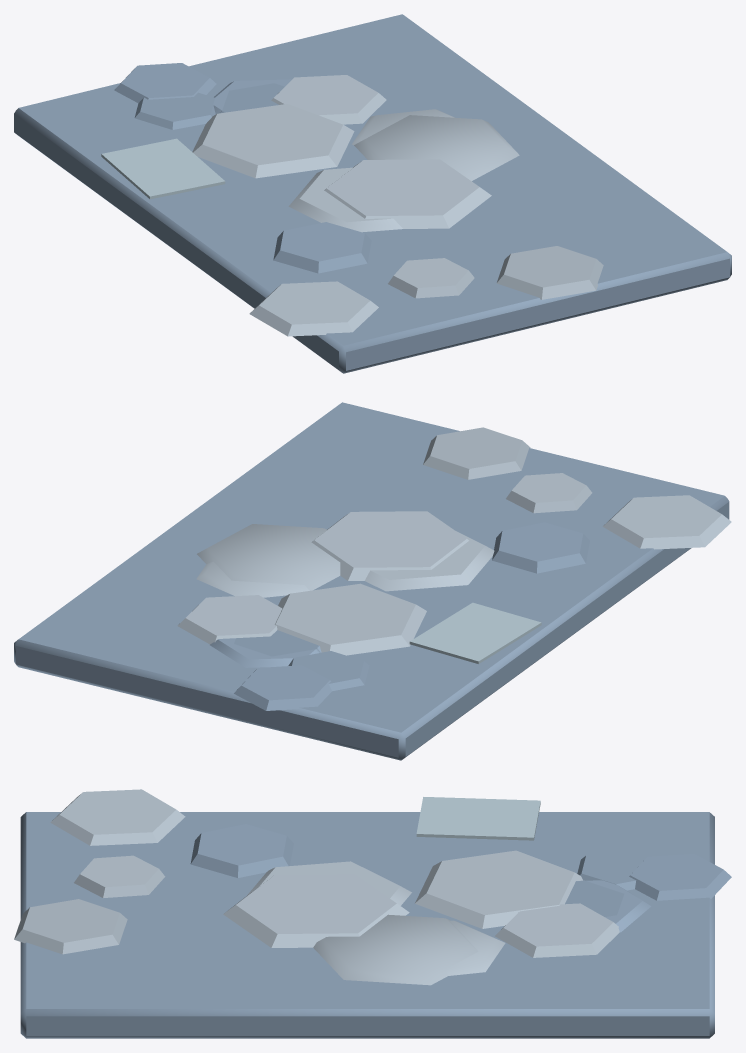
The model's file is cv_eis_hall.glb.
3 views of the same model, one above another, from view 1: azimuth 30°, elevation 25°; view 2: azimuth 150°, elevation 25°; view 3: azimuth 270°, elevation 25° (orthographic). The views are drawn at different scales.
Visible parts, largest first — view 1: body; view 2: body; view 3: body.
Boxes of the visible parts, <box> form: body: <box>14,14,731,373</box>; body: <box>14,402,731,760</box>; body: <box>14,789,731,1038</box>.
Bounding box in the file's own units: 4.77 × 0.4296 × 6.62.
